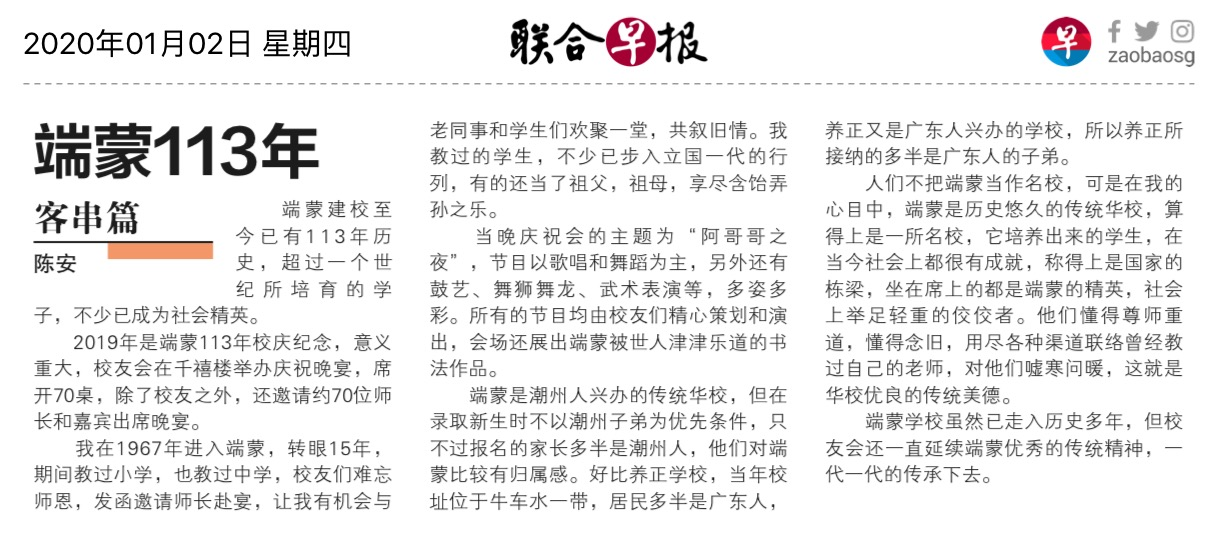heading: (30, 112, 329, 184)
